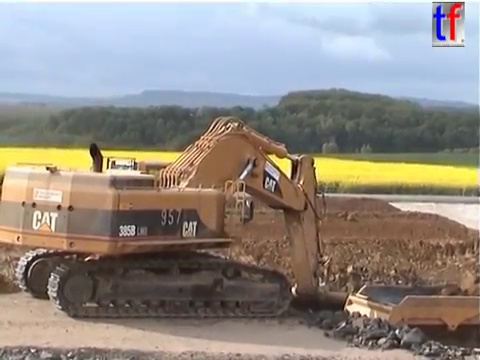excavator: (1, 113, 349, 321)
truck: (341, 282, 480, 360)
